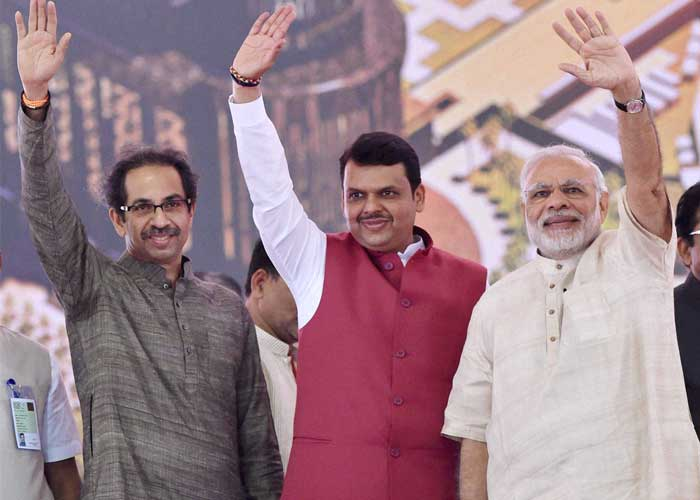modi: (497, 138, 649, 290)
